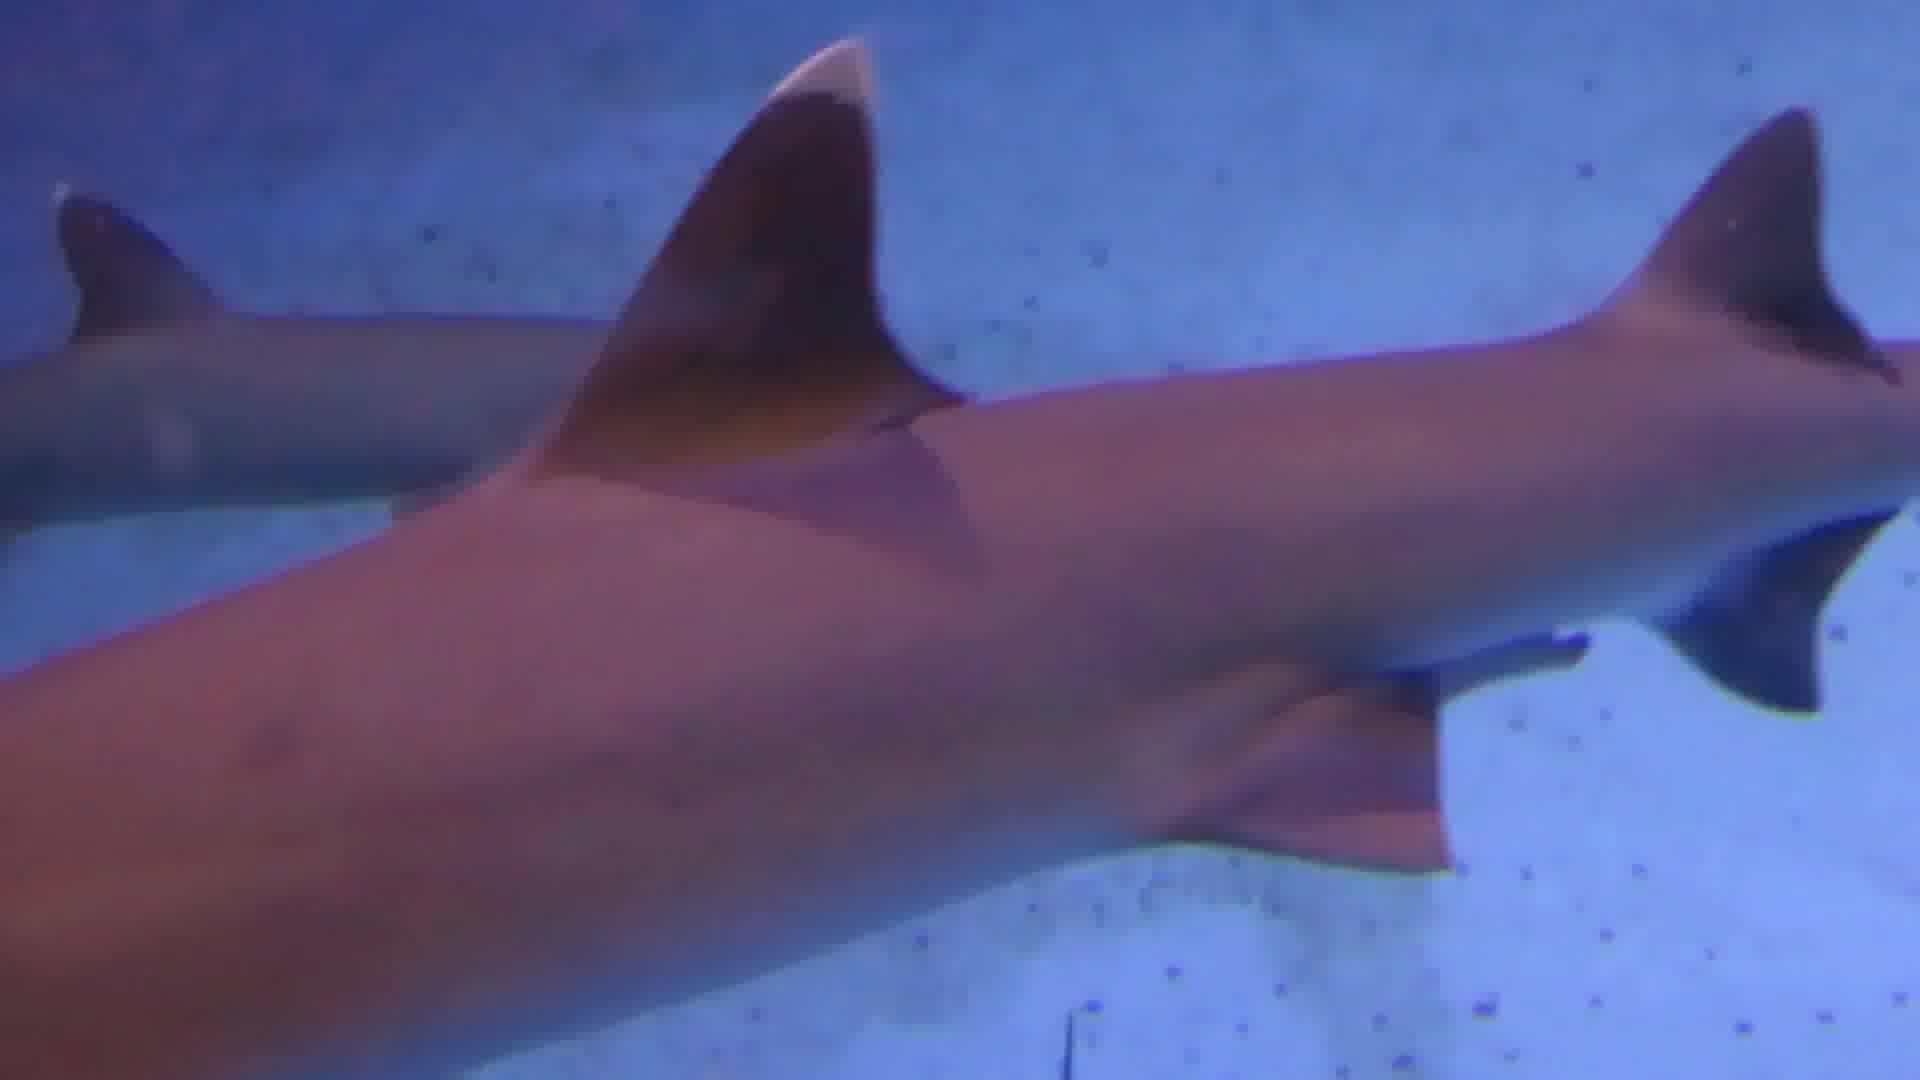Triaenodon obesus: (1, 98, 1920, 1072)
